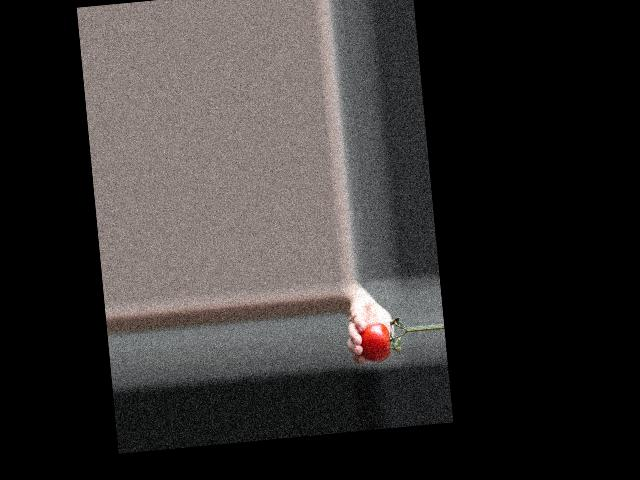tomato: (358, 321, 393, 363)
